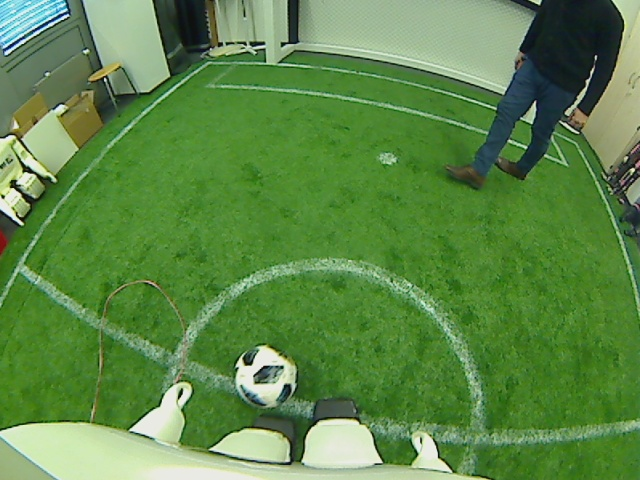ball: (232, 341, 296, 411)
